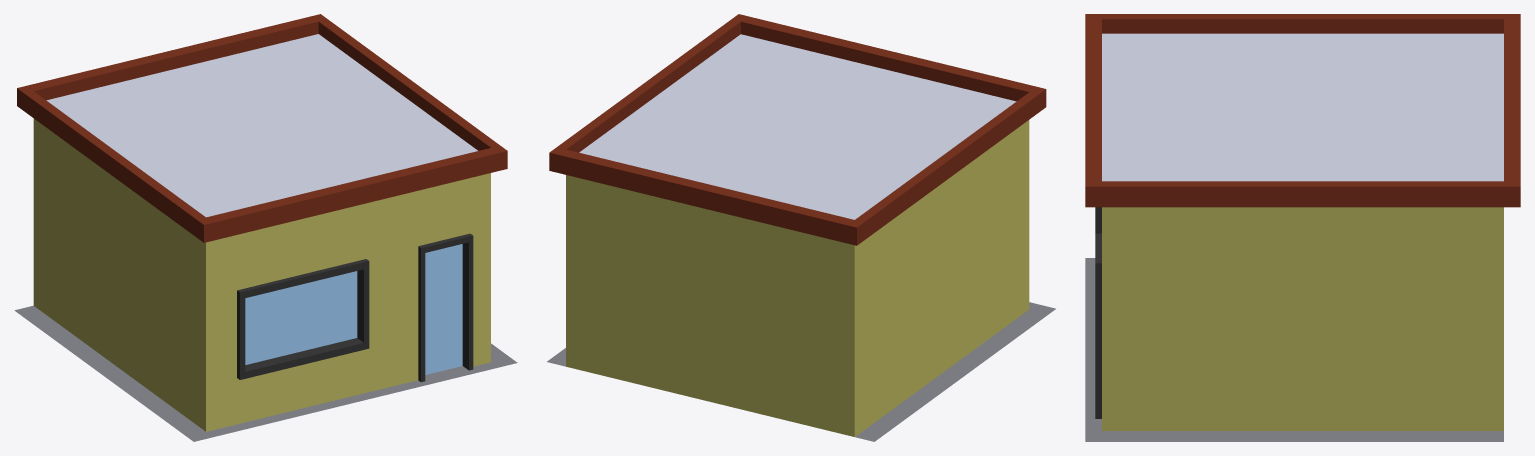
Rendered from Building2.fbx.
The picture shows the model from 3 angles, left to right: view 1: azimuth 30°, elevation 25°; view 2: azimuth 150°, elevation 25°; view 3: azimuth 270°, elevation 25°; orthographic projection. The views are drawn at different scales.
Visible parts, largest first — view 1: Building2; view 2: Building2; view 3: Building2.
Part boxes in pixels (<box>): Building2: <box>14,14,517,441</box>; Building2: <box>547,14,1055,441</box>; Building2: <box>1085,14,1520,441</box>.
Size of the model in its own units: 800 by 506 by 800.
